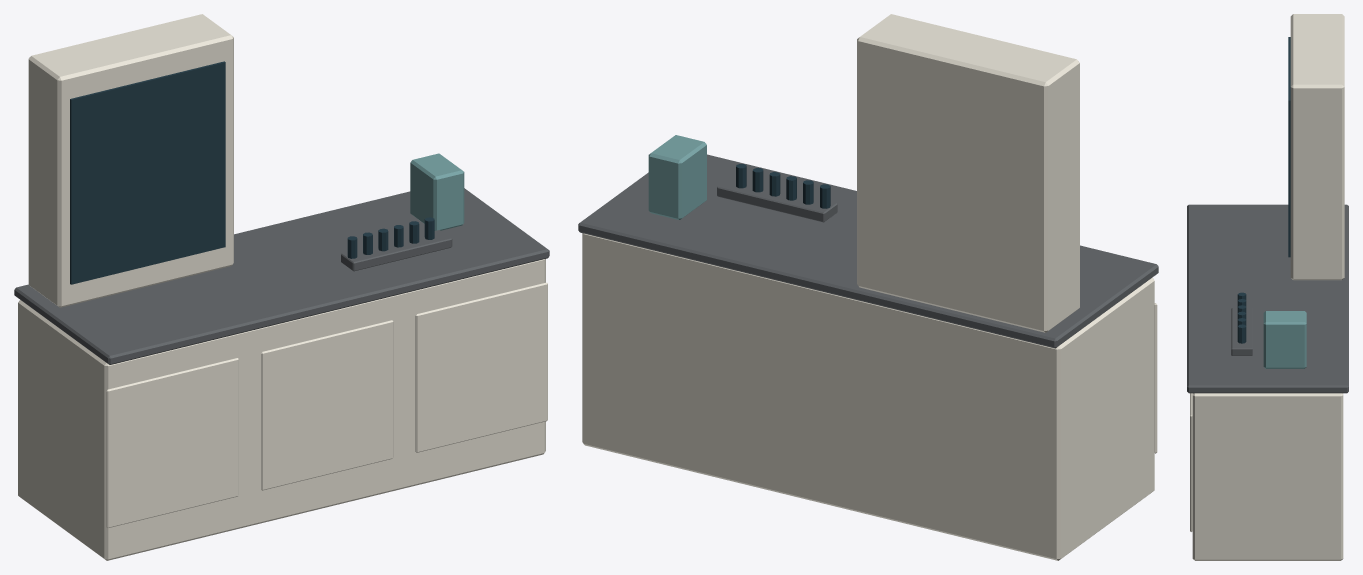
Rendered from lab_bench.glb.
3 renders of one model, left to right at view 1: azimuth 30°, elevation 25°; view 2: azimuth 150°, elevation 25°; view 3: azimuth 270°, elevation 25°, orthographic. The views are drawn at different scales.
Visible parts, largest first — view 1: lab_bench; view 2: lab_bench; view 3: lab_bench.
Boxes of the visible parts, left/top/right/bottom form: lab_bench: left=14, top=14, right=549, bottom=560; lab_bench: left=578, top=14, right=1158, bottom=560; lab_bench: left=1187, top=14, right=1348, bottom=560.
Bounding box in the file's own units: 2 × 1.9 × 0.75.
